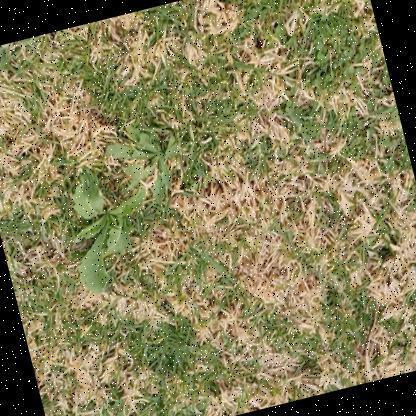Weeds: (56, 154, 170, 296), (103, 117, 192, 214)
